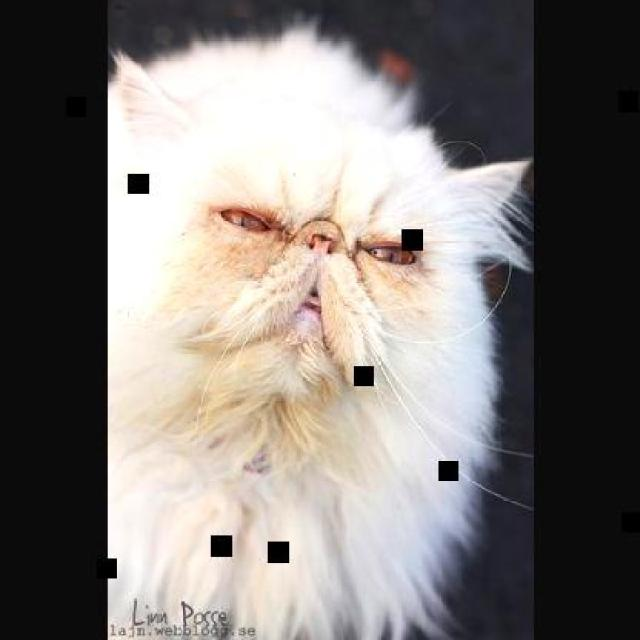unauthorized: (106, 11, 532, 638)
